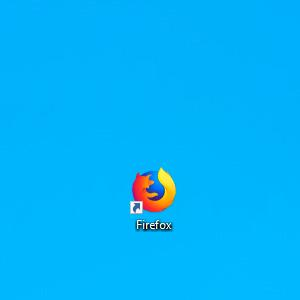firefox: (130, 166, 176, 215)
